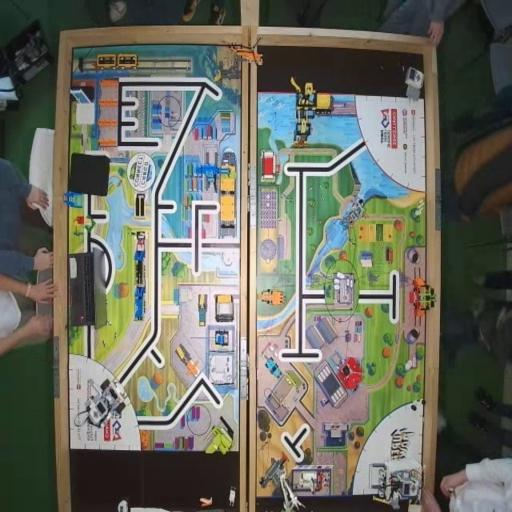lego_robot: (368, 462, 423, 512), (74, 378, 126, 430)
